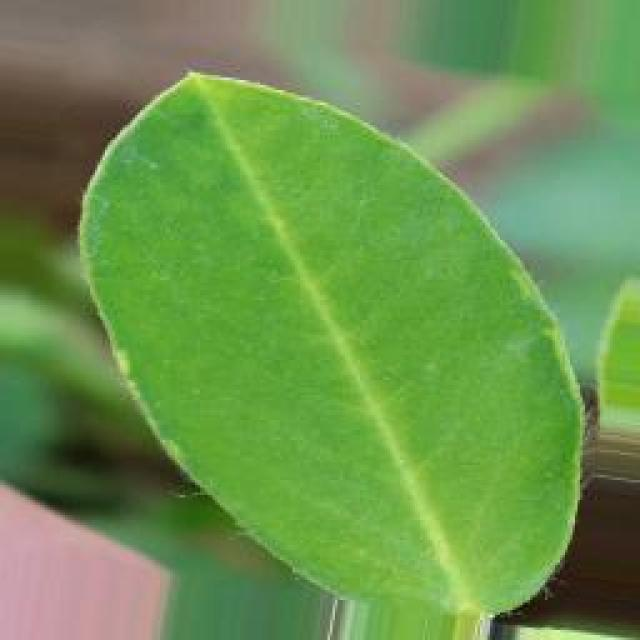Yellow_and_black_sigatoka: (72, 54, 582, 610)
